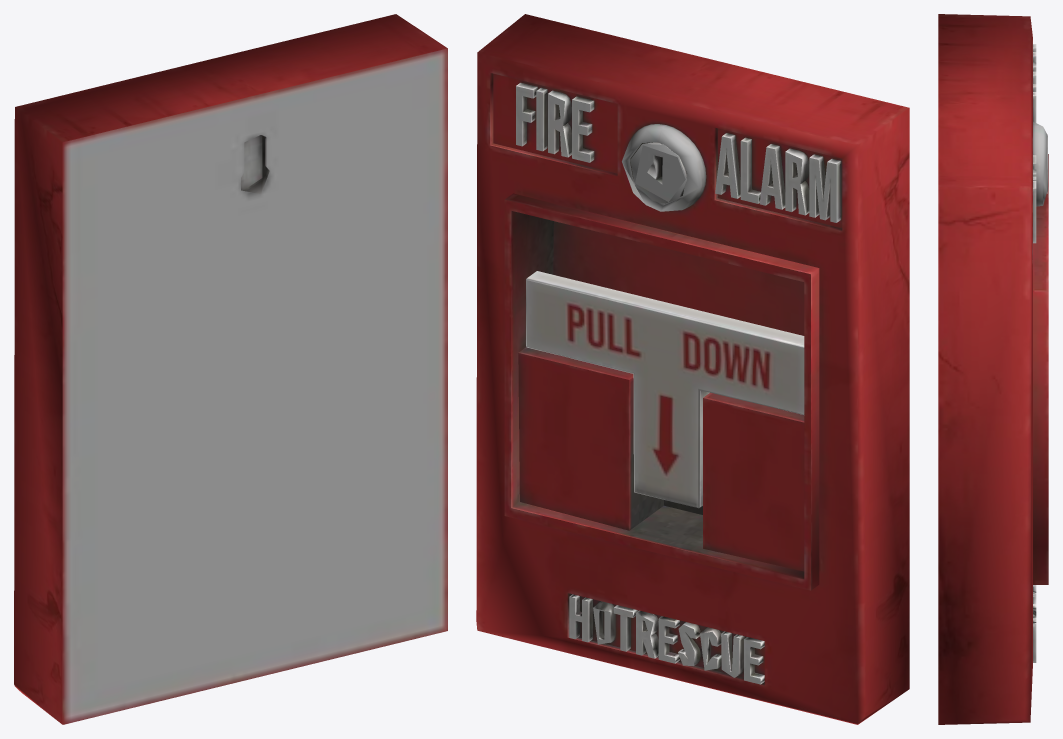
File: fireAlarm.glb
The picture shows the model from 3 angles, left to right: view 1: azimuth 30°, elevation 25°; view 2: azimuth 150°, elevation 25°; view 3: azimuth 270°, elevation 25°; orthographic projection. The views are drawn at different scales.
Parts seen in each view (by area): view 1: fire_alarm; view 2: fire_alarm; view 3: fire_alarm.
Part boxes in pixels (x1,y1,x2,y2): fire_alarm: [14, 14, 447, 724]; fire_alarm: [476, 14, 909, 724]; fire_alarm: [938, 14, 1048, 724].
Bounding box in the file's own units: 0.0995 × 0.1429 × 0.0264.
1 material, 1 textured.
